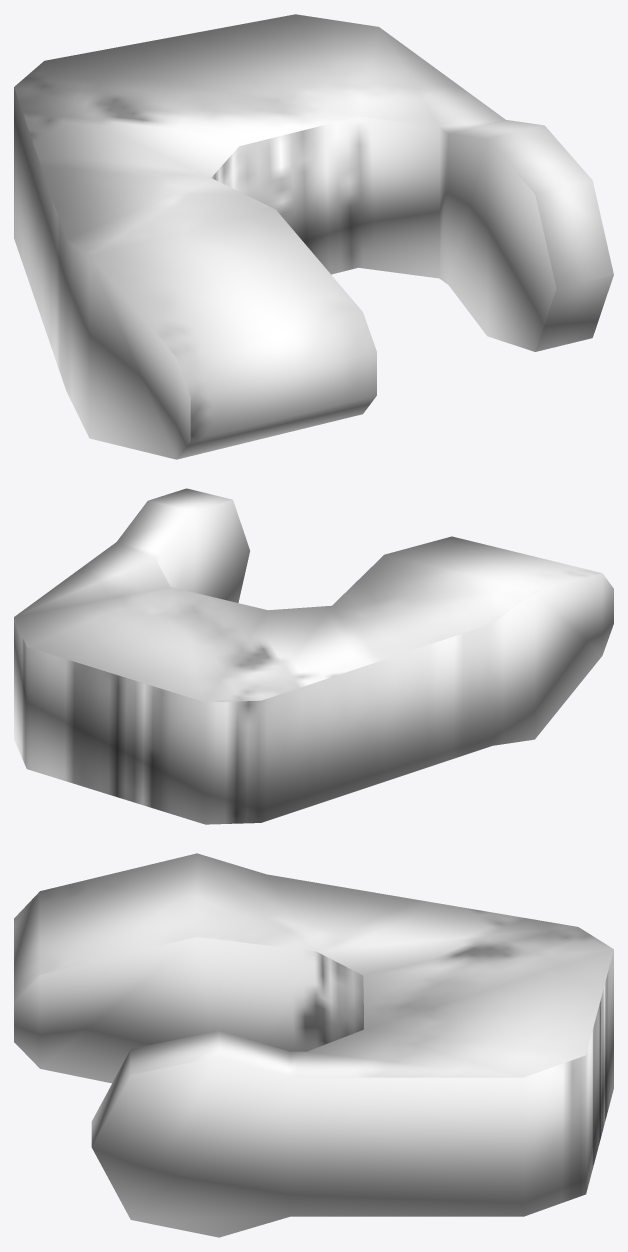
File: mtorso.obj
3 renders of one model, top to bottom at view 1: azimuth 30°, elevation 25°; view 2: azimuth 150°, elevation 25°; view 3: azimuth 270°, elevation 25°, orthographic. The views are drawn at different scales.
Parts seen in each view (by area): view 1: mtorso; view 2: mtorso; view 3: mtorso.
Boxes of the visible parts, x1,y1,x2,y2 form: mtorso: (14,14,613,459); mtorso: (14,488,613,824); mtorso: (14,853,613,1237).
Bounding box in the file's own units: 0.0837 × 0.0337 × 0.1012.
